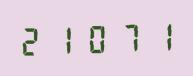one: (49, 21, 79, 56), (142, 18, 172, 53)
seven: (111, 19, 141, 54)
two: (18, 22, 48, 57)
zero: (80, 20, 110, 55)
